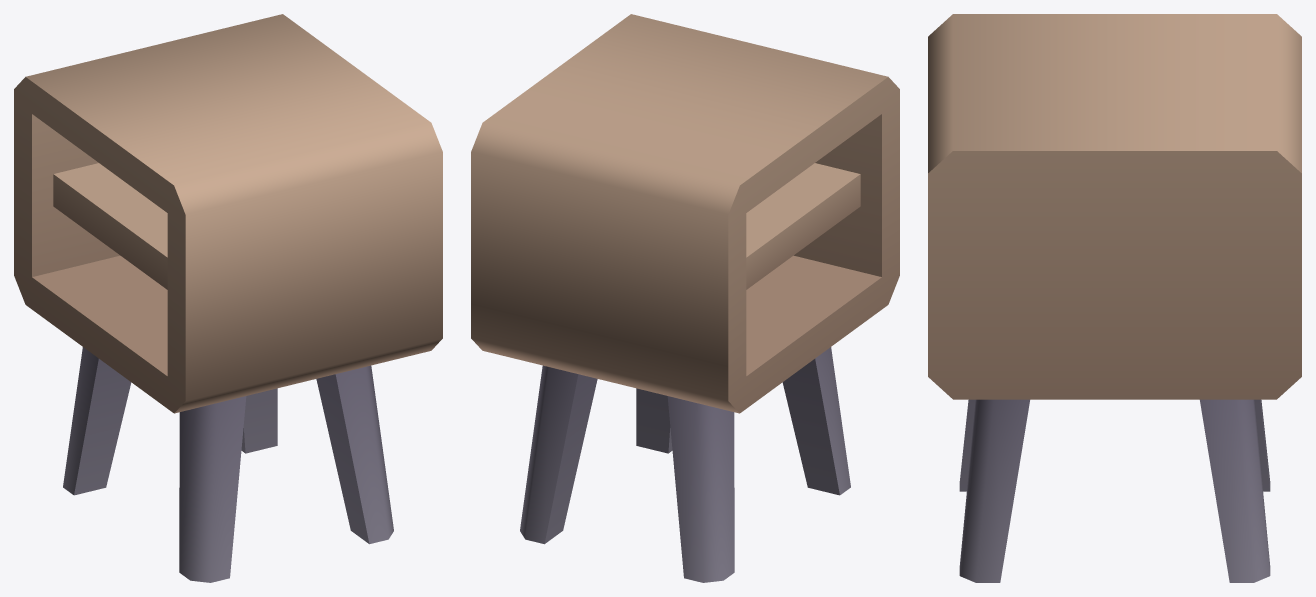
Rendered from nightstand-open-divider.glb.
The picture shows the model from 3 angles, left to right: view 1: azimuth 30°, elevation 25°; view 2: azimuth 150°, elevation 25°; view 3: azimuth 270°, elevation 25°; orthographic projection. The views are drawn at different scales.
Visible parts, largest first — view 1: nightstand-open-divider; view 2: nightstand-open-divider; view 3: nightstand-open-divider.
Part boxes in pixels (bbox=[...]): nightstand-open-divider: bbox=[14, 14, 442, 582]; nightstand-open-divider: bbox=[471, 14, 899, 582]; nightstand-open-divider: bbox=[928, 14, 1301, 582].
Size of the model in its own units: 0.3 by 0.456 by 0.346.
